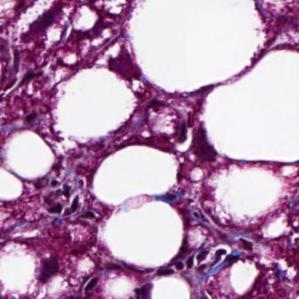inflammation: (142, 99, 198, 151), (37, 179, 102, 221), (19, 0, 76, 44), (178, 236, 229, 274)
